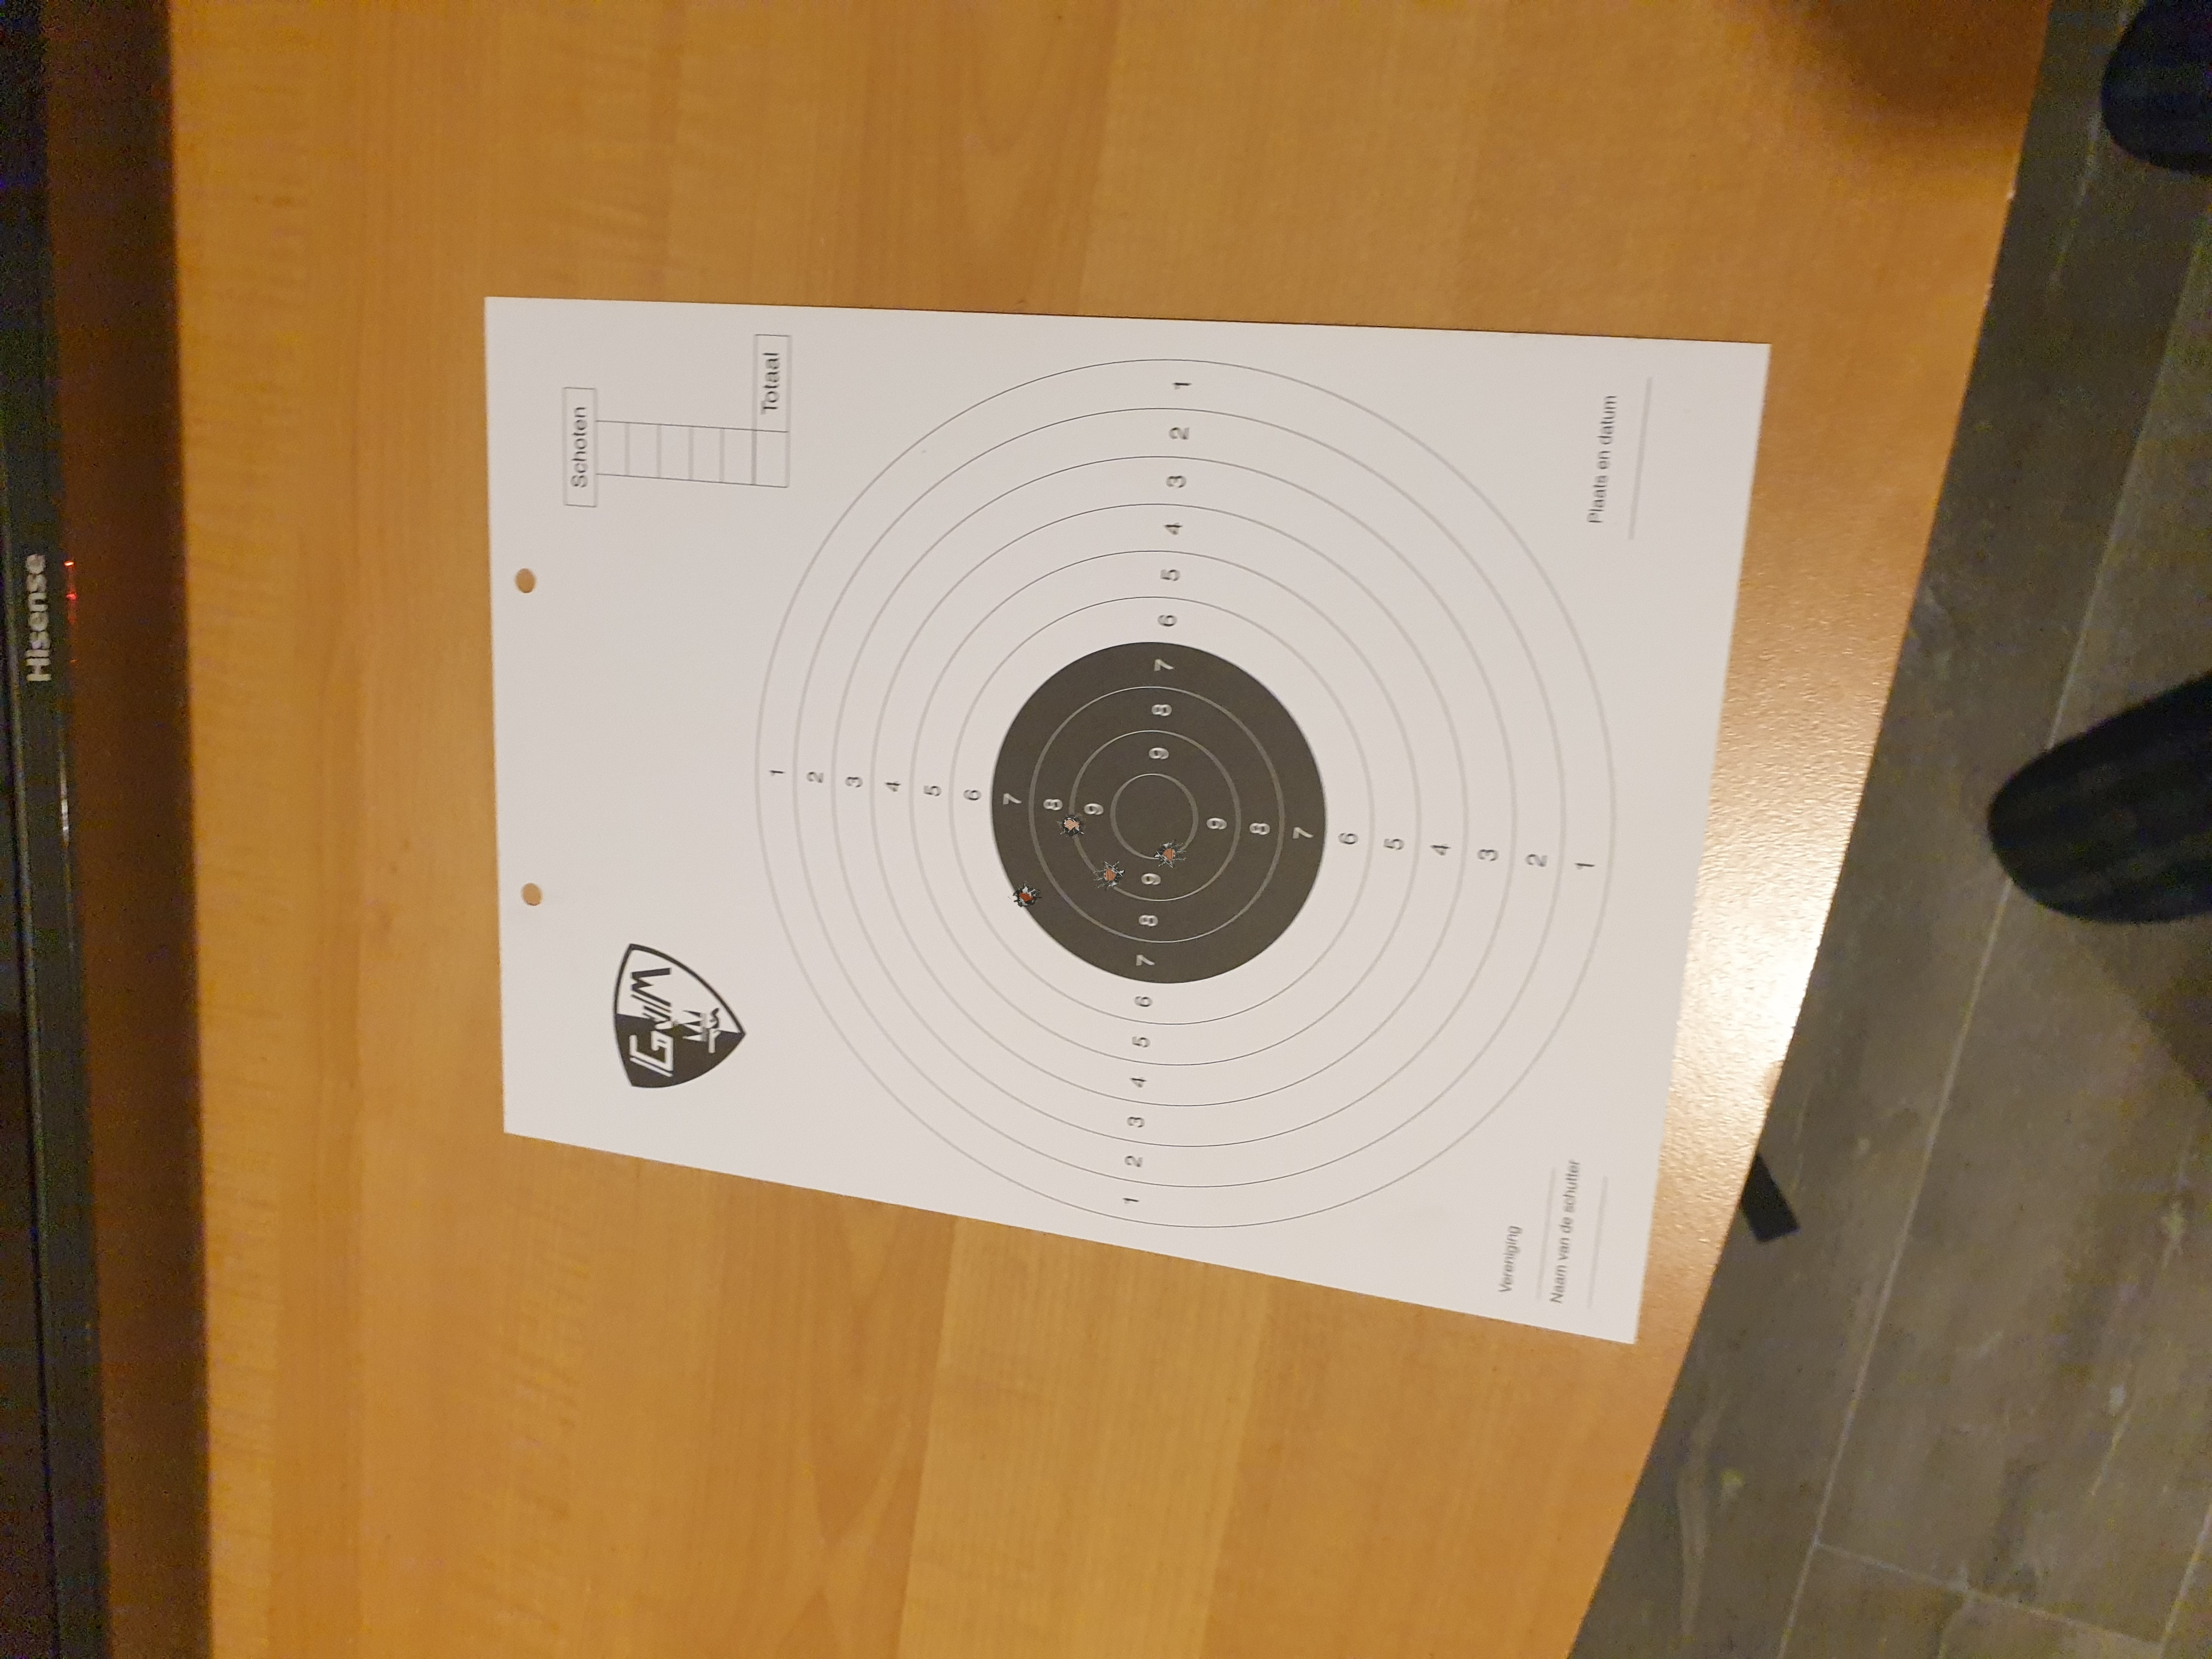Bullet_10: (1151, 840, 1181, 866)
Bullet_7: (1010, 880, 1038, 906)
Bullet_black_contour: (991, 641, 1325, 983)
Target: (754, 357, 1616, 1229)
